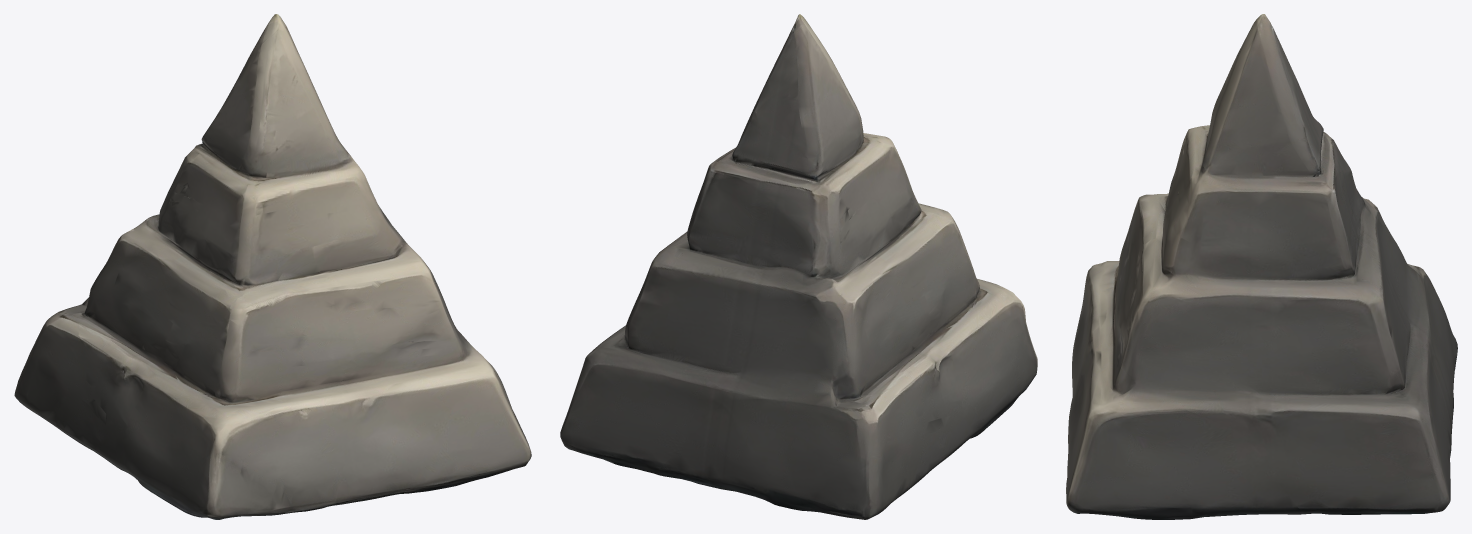
Rendered from piramit_tas_parcali.glb.
The picture shows the model from 3 angles, left to right: view 1: azimuth 30°, elevation 25°; view 2: azimuth 150°, elevation 25°; view 3: azimuth 270°, elevation 25°; orthographic projection. The views are drawn at different scales.
Parts seen in each view (by area): view 1: p11, p10, p04, p09, p08, p06, p01, p05, p00, p03, p07; view 2: p06, p02, p03, p08, p11, p10, p07, p05, p00; view 3: p02, p09, p04, p03, p10, p11, p06, p07, p08, p01.
Boxes of the visible parts, bbox=[...] form: p11: bbox=[125, 319, 351, 519]; p10: bbox=[186, 30, 347, 303]; p04: bbox=[331, 337, 531, 505]; p09: bbox=[318, 152, 463, 347]; p08: bbox=[79, 220, 176, 423]; p06: bbox=[14, 297, 129, 473]; p01: bbox=[229, 224, 336, 329]; p05: bbox=[160, 192, 231, 328]; p00: bbox=[155, 315, 358, 373]; p03: bbox=[146, 133, 209, 225]; p07: bbox=[205, 14, 289, 133]; p06: bbox=[657, 394, 970, 519]; p02: bbox=[560, 225, 754, 474]; p03: bbox=[689, 95, 853, 336]; p08: bbox=[724, 254, 959, 401]; p11: bbox=[939, 226, 1037, 439]; p10: bbox=[808, 24, 945, 229]; p07: bbox=[755, 14, 824, 164]; p05: bbox=[849, 214, 955, 291]; p00: bbox=[923, 267, 945, 341]; p02: bbox=[1247, 242, 1450, 514]; p09: bbox=[1120, 162, 1301, 434]; p04: bbox=[1066, 305, 1305, 519]; p03: bbox=[1257, 111, 1393, 287]; p10: bbox=[1158, 25, 1277, 210]; p11: bbox=[1072, 208, 1135, 395]; p06: bbox=[1407, 264, 1457, 455]; p07: bbox=[1253, 14, 1314, 119]; p08: bbox=[1362, 197, 1431, 349]; p01: bbox=[1130, 194, 1173, 262].
Bounding box in the file's own units: 0.7956 × 0.9779 × 0.8077.
2 materials, 1 textured.
